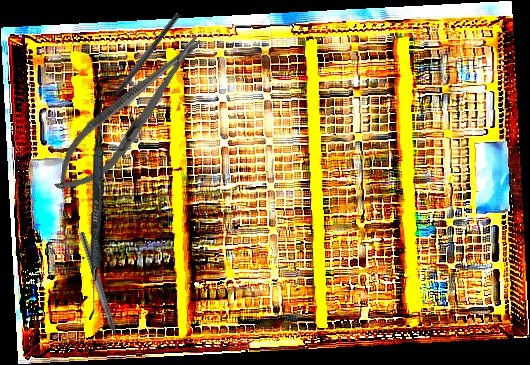Chopper: (98, 7, 181, 111), (70, 231, 125, 353)
Needle Holder: (40, 22, 219, 207)
Spatula Surgical: (88, 103, 105, 321)
